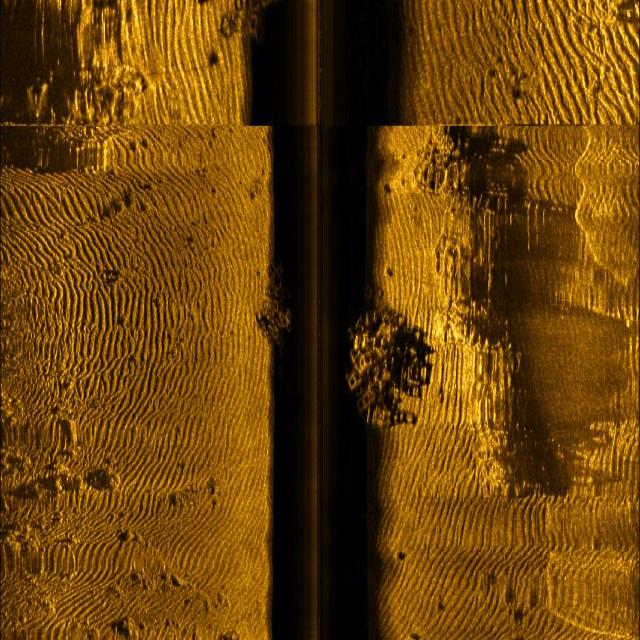artificial reef: (350, 275, 422, 427), (256, 261, 296, 344)
